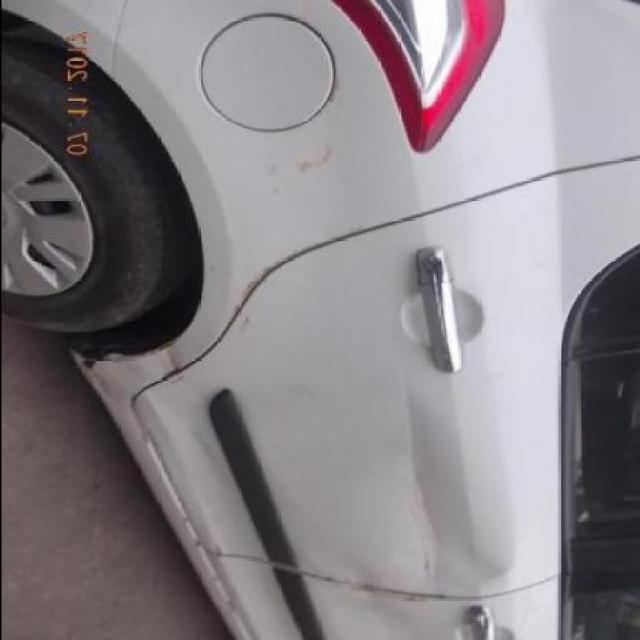damage: (400, 394, 513, 582), (261, 139, 343, 180), (337, 576, 444, 605)
